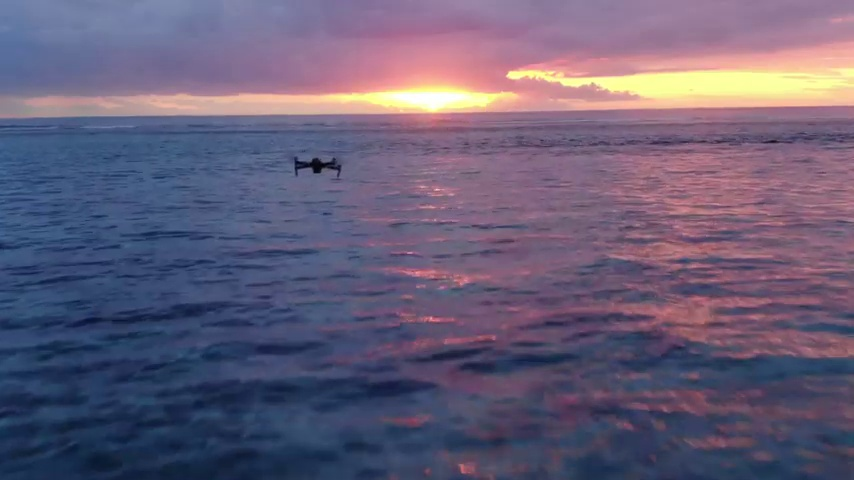drone: (294, 154, 343, 178)
